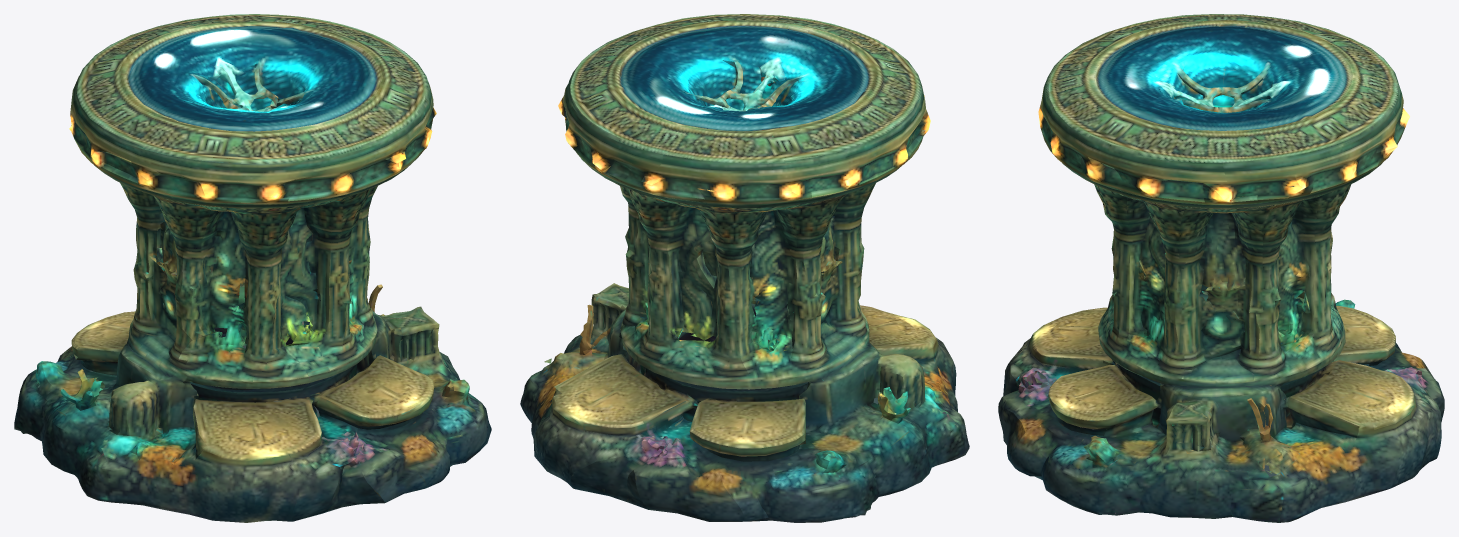
File: bumper_lvl_2.glb
3 views of the same model, side by side, from view 1: azimuth 30°, elevation 25°; view 2: azimuth 150°, elevation 25°; view 3: azimuth 270°, elevation 25° (orthographic).
Visible parts, largest first — view 1: Mesh0; view 2: Mesh0; view 3: Mesh0.
Boxes of the visible parts, <box> form: Mesh0: <box>14,14,491,522</box>; Mesh0: <box>520,14,969,522</box>; Mesh0: <box>998,14,1444,522</box>.
Size of the model in its own units: 0.076 by 0.0665 by 0.0757.
1 material, 1 textured.
